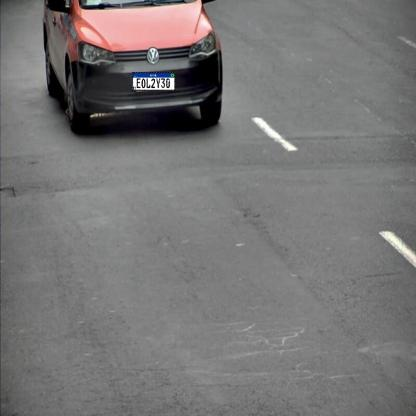PlacaM: (132, 72, 175, 91)
